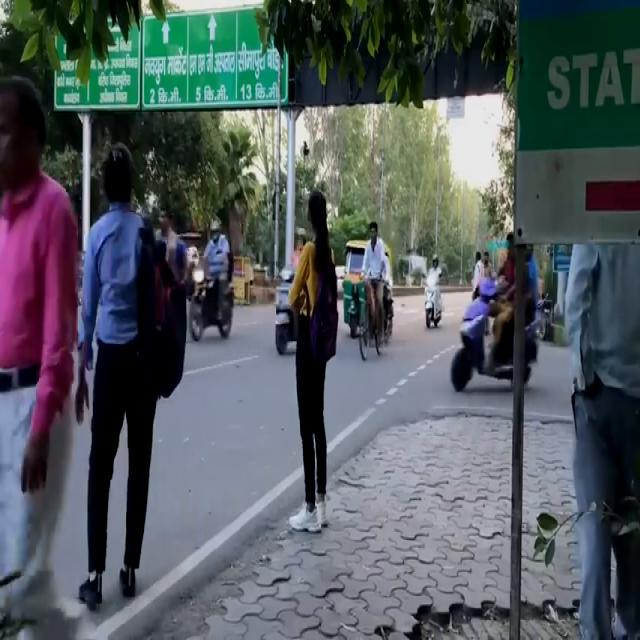MOTORCYCLE: (453, 280, 515, 392), (344, 239, 391, 360), (424, 271, 442, 328)
